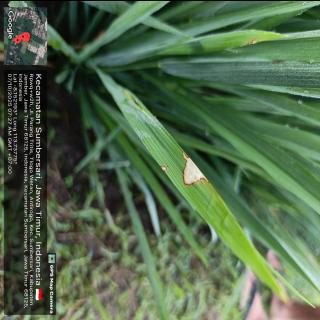Blast: (182, 151, 209, 185), (160, 164, 168, 171)
